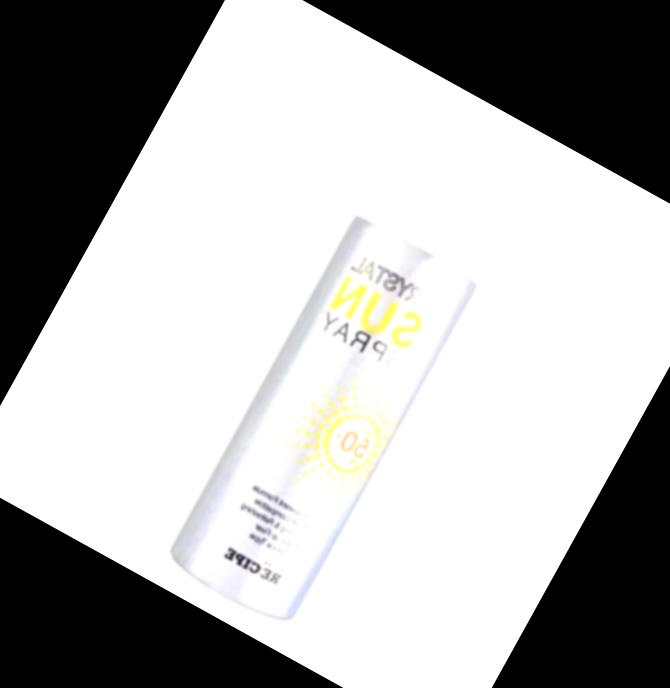cosmetic: (158, 94, 543, 629)
